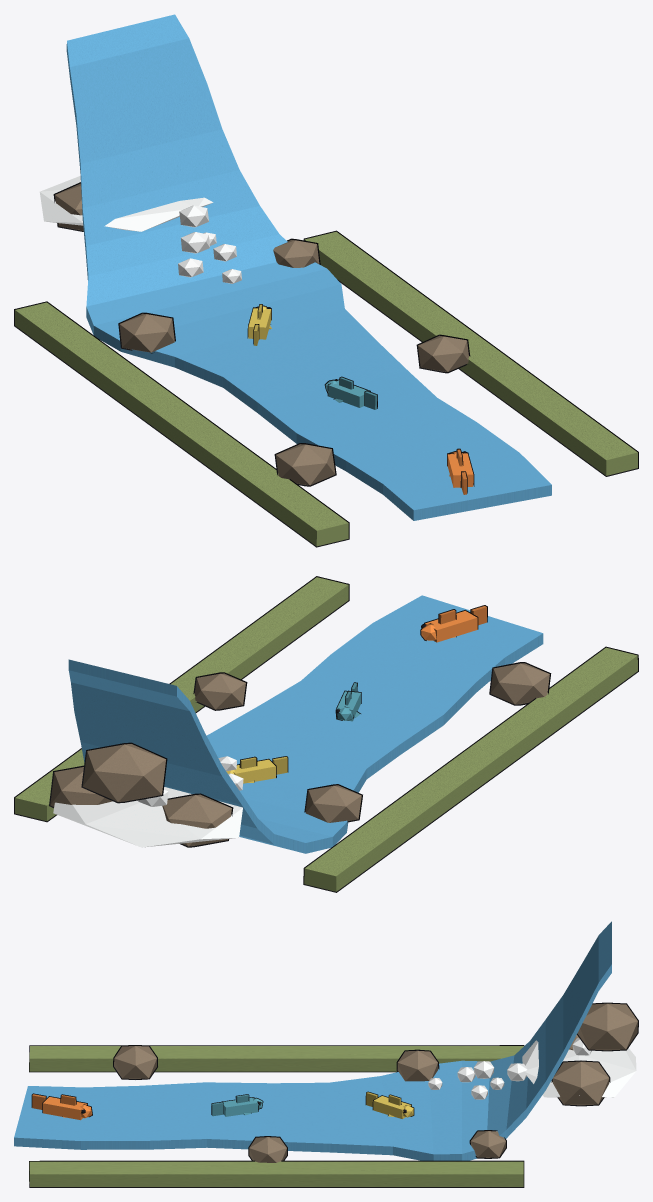
File: bethlehem_stream_fish_alive_v6.glb
The picture shows the model from 3 angles, top to bottom: view 1: azimuth 30°, elevation 25°; view 2: azimuth 150°, elevation 25°; view 3: azimuth 270°, elevation 25°; orthographic projection. The views are drawn at different scales.
Parts seen in each view (by area): view 1: Stream_Water, Bank_0, Bank_1, Foam_Splash, Rock_0, Rock_2, Rock_1, Bank_0_Outline, Bank_1_Outline, Rock_3, Fish_Teal, Fish_Orange (+1 smaller); view 2: Stream_Water, Bank_0, Bank_1, Foam_Splash, WF_Rock_2, Rock_0, WF_Rock_0, Rock_2, Rock_1, Fish_Orange, WF_Rock_1, Bank_0_Outline (+4 smaller); view 3: Stream_Water, Bank_1, Bank_0, WF_Rock_2, Foam_Splash, WF_Rock_1, Bank_1_Outline, Rock_0, Bank_0_Outline, Rock_2, Fish_Orange, Rock_1 (+3 smaller).
Part boxes in pixels (left/top/right/bottom): Stream_Water: left=66, top=14, right=551, bottom=520; Bank_0: left=15, top=302, right=348, bottom=546; Bank_1: left=304, top=231, right=637, bottom=475; Foam_Splash: left=39, top=176, right=213, bottom=231; Rock_0: left=276, top=444, right=335, bottom=485; Rock_2: left=119, top=313, right=174, bottom=352; Rock_1: left=418, top=335, right=468, bottom=371; Bank_0_Outline: left=14, top=301, right=349, bottom=547; Bank_1_Outline: left=303, top=230, right=638, bottom=476; Rock_3: left=273, top=240, right=319, bottom=267; Fish_Teal: left=325, top=377, right=377, bottom=409; Fish_Orange: left=447, top=449, right=473, bottom=494; Stream_Water: left=68, top=595, right=543, bottom=853; Bank_0: left=304, top=647, right=637, bottom=891; Bank_1: left=15, top=577, right=348, bottom=820; Foam_Splash: left=53, top=787, right=242, bottom=847; WF_Rock_2: left=82, top=744, right=165, bottom=801; Rock_0: left=490, top=663, right=549, bottom=704; WF_Rock_0: left=162, top=794, right=231, bottom=846; Rock_2: left=305, top=785, right=361, bottom=822; Rock_1: left=194, top=673, right=245, bottom=709; Fish_Orange: left=421, top=606, right=486, bottom=642; WF_Rock_1: left=50, top=767, right=112, bottom=806; Bank_0_Outline: left=303, top=646, right=638, bottom=892; Stream_Water: left=14, top=921, right=611, bottom=1160; Bank_1: left=29, top=1161, right=523, bottom=1186; Bank_0: left=29, top=1046, right=523, bottom=1071; WF_Rock_2: left=577, top=1003, right=637, bottom=1050; Foam_Splash: left=522, top=1040, right=636, bottom=1097; WF_Rock_1: left=552, top=1061, right=609, bottom=1105; Bank_1_Outline: left=29, top=1160, right=524, bottom=1187; Rock_0: left=114, top=1046, right=156, bottom=1078; Bank_0_Outline: left=29, top=1045, right=524, bottom=1072; Rock_2: left=397, top=1050, right=438, bottom=1081; Fish_Orange: left=32, top=1094, right=91, bottom=1120; Rock_1: left=249, top=1137, right=286, bottom=1162.
Bounding box in the file's own units: 3.46 × 2.26 × 7.09.
Materials: 17 (17 with a texture image).
